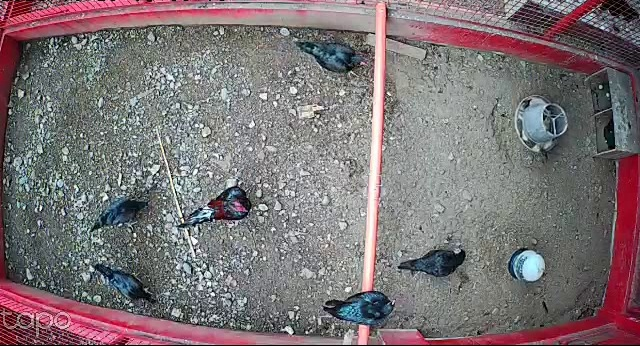Chicken: (291, 36, 369, 80), (91, 260, 159, 304), (322, 288, 399, 326), (88, 193, 151, 238), (395, 246, 468, 279)
Drinker: (506, 246, 547, 283)
Feeder: (515, 88, 569, 154)
Rooster: (176, 184, 253, 232)
